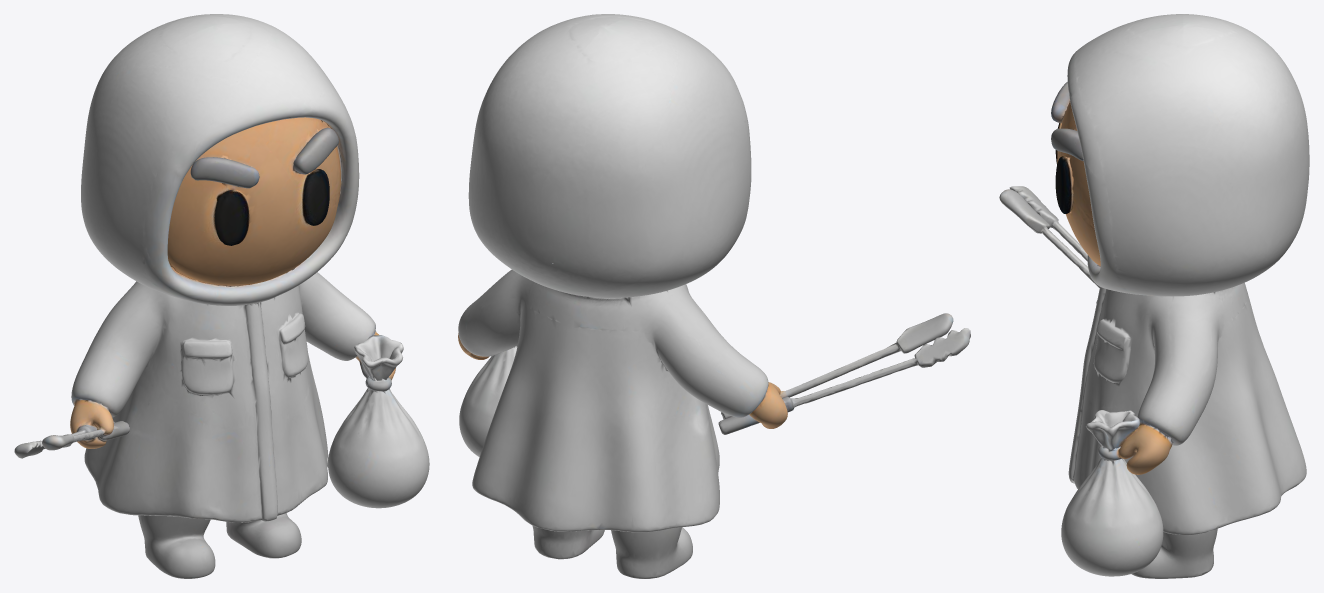
File: ghost-keeper.glb
The picture shows the model from 3 angles, left to right: view 1: azimuth 30°, elevation 25°; view 2: azimuth 150°, elevation 25°; view 3: azimuth 270°, elevation 25°; orthographic projection.
Visible parts, largest first — view 1: tripo_node_57eff987-e688-4339-a1c8-47a519e30f68; view 2: tripo_node_57eff987-e688-4339-a1c8-47a519e30f68; view 3: tripo_node_57eff987-e688-4339-a1c8-47a519e30f68.
Boxes of the visible parts, x1,y1,x2,y2 form: tripo_node_57eff987-e688-4339-a1c8-47a519e30f68: (14,14,429,578); tripo_node_57eff987-e688-4339-a1c8-47a519e30f68: (458,14,970,578); tripo_node_57eff987-e688-4339-a1c8-47a519e30f68: (999,14,1309,578).
Bounding box in the file's own units: 0.8862 × 0.9804 × 0.5281.
Materials: 1 (1 with a texture image).
